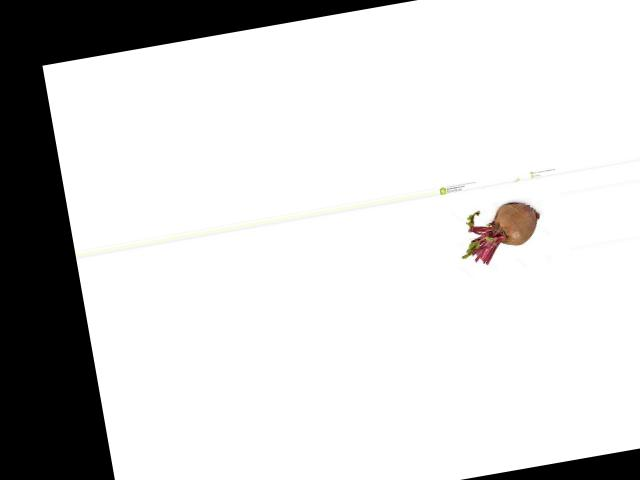beet: (455, 198, 546, 268)
